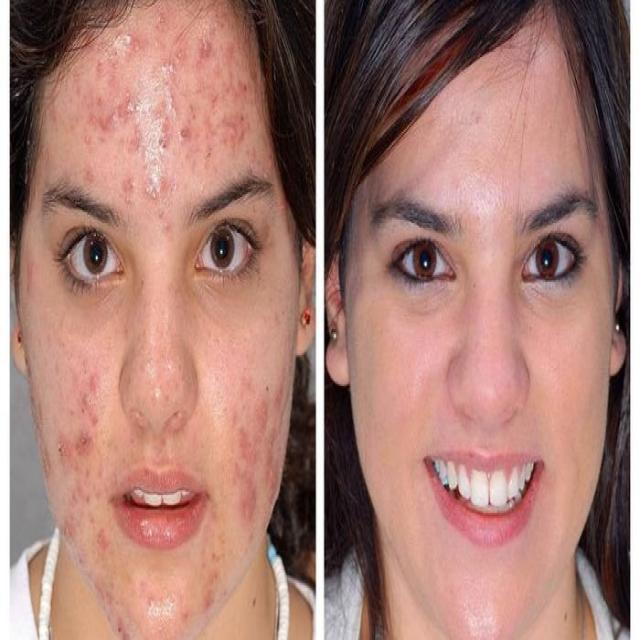Acne: (66, 10, 266, 243), (22, 344, 120, 612), (220, 370, 294, 563), (140, 555, 223, 635)
